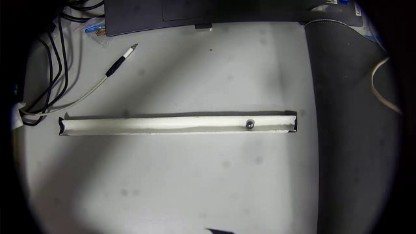gangzhu: (243, 119, 254, 130)
